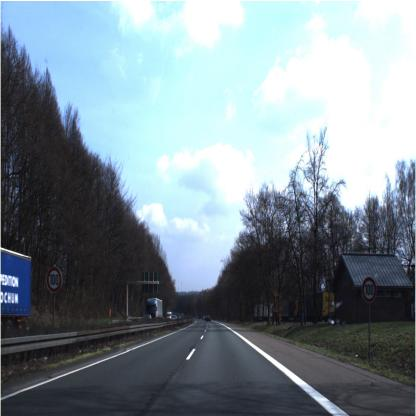speed limit 100: (46, 265, 62, 293), (361, 276, 377, 303)
